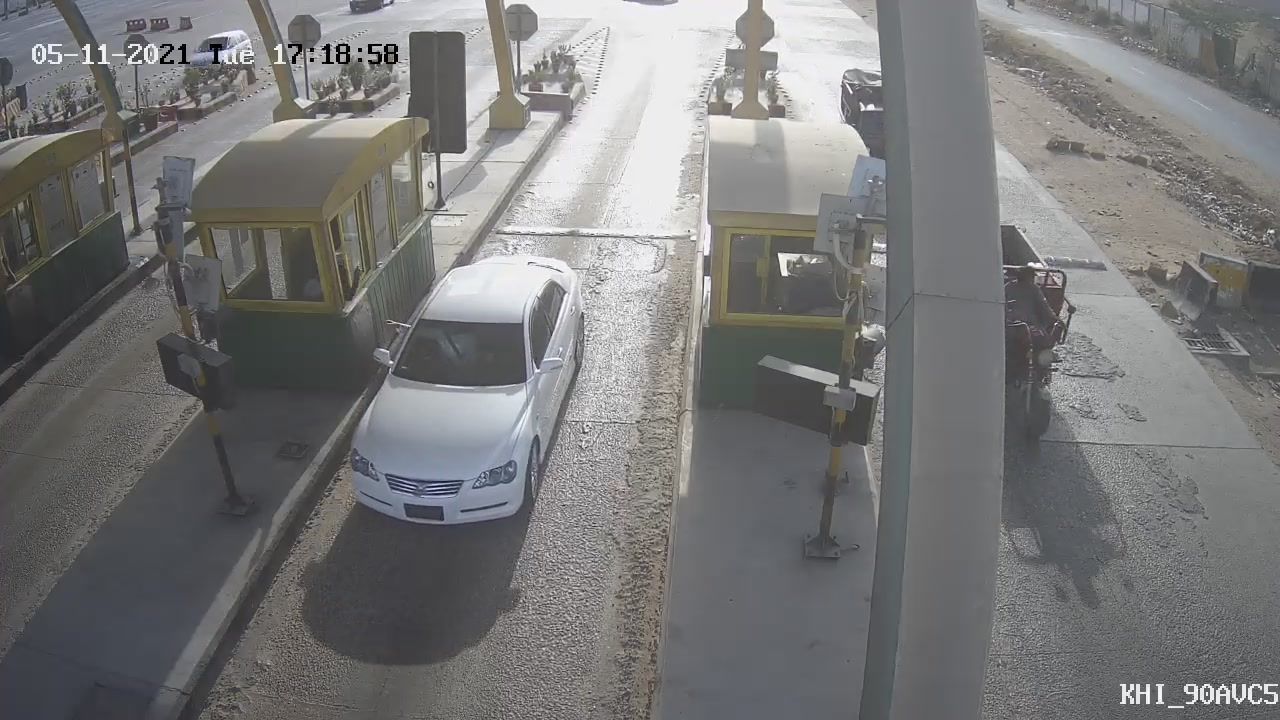F1: (309, 233, 608, 549)
